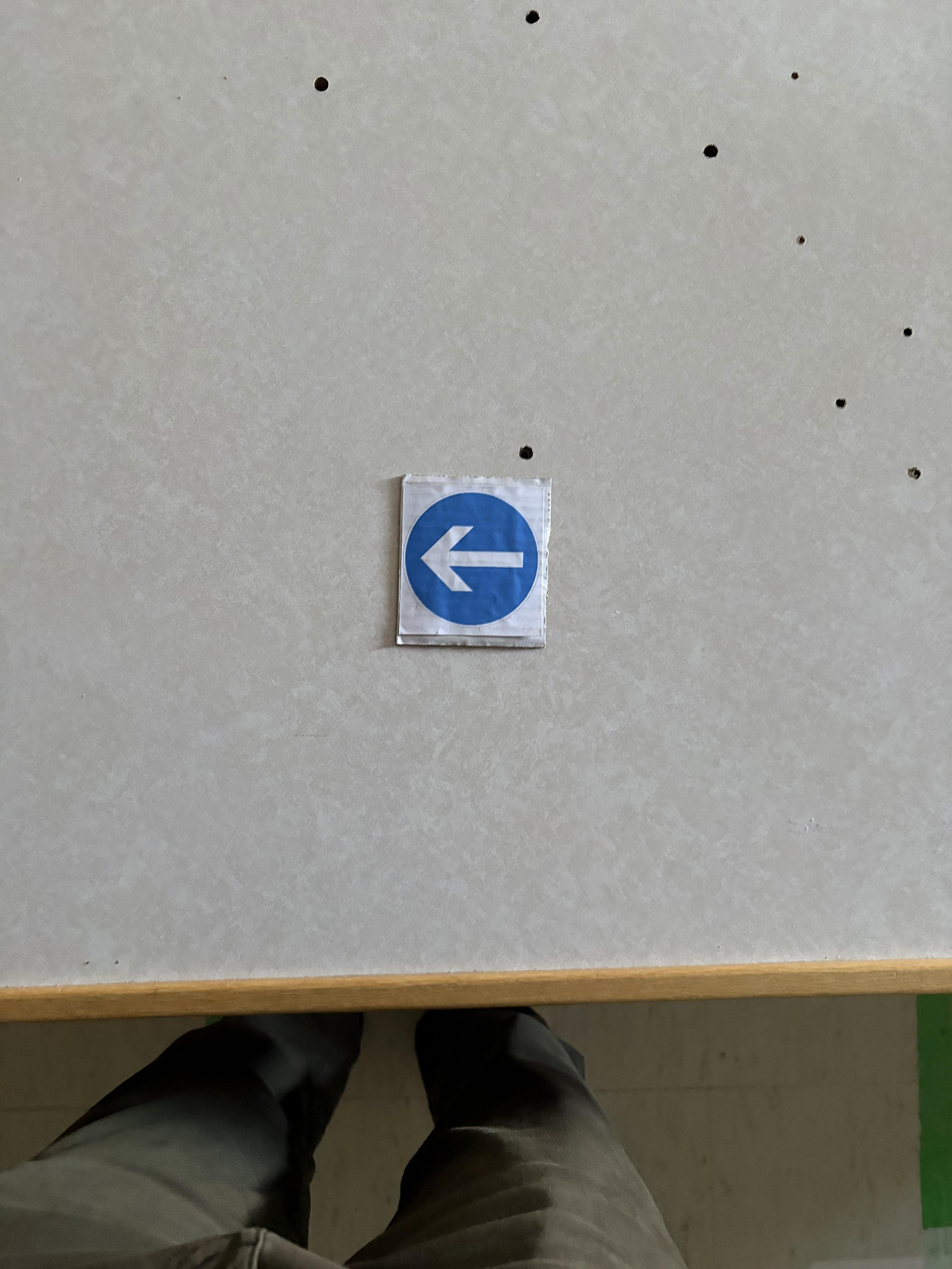Proceed Left: (398, 476, 553, 654)
